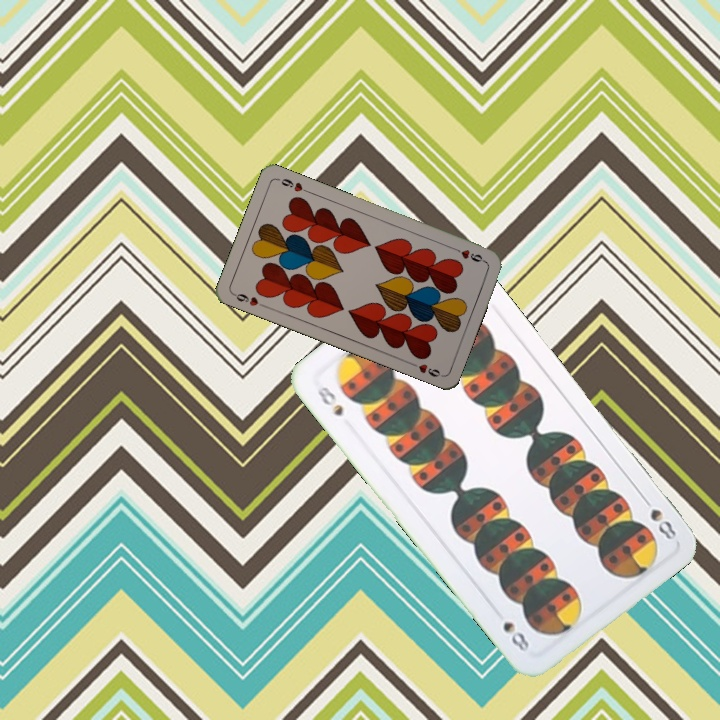H9: (229, 289, 268, 310), (449, 244, 488, 265)
S8: (637, 491, 679, 543), (313, 382, 346, 419)
